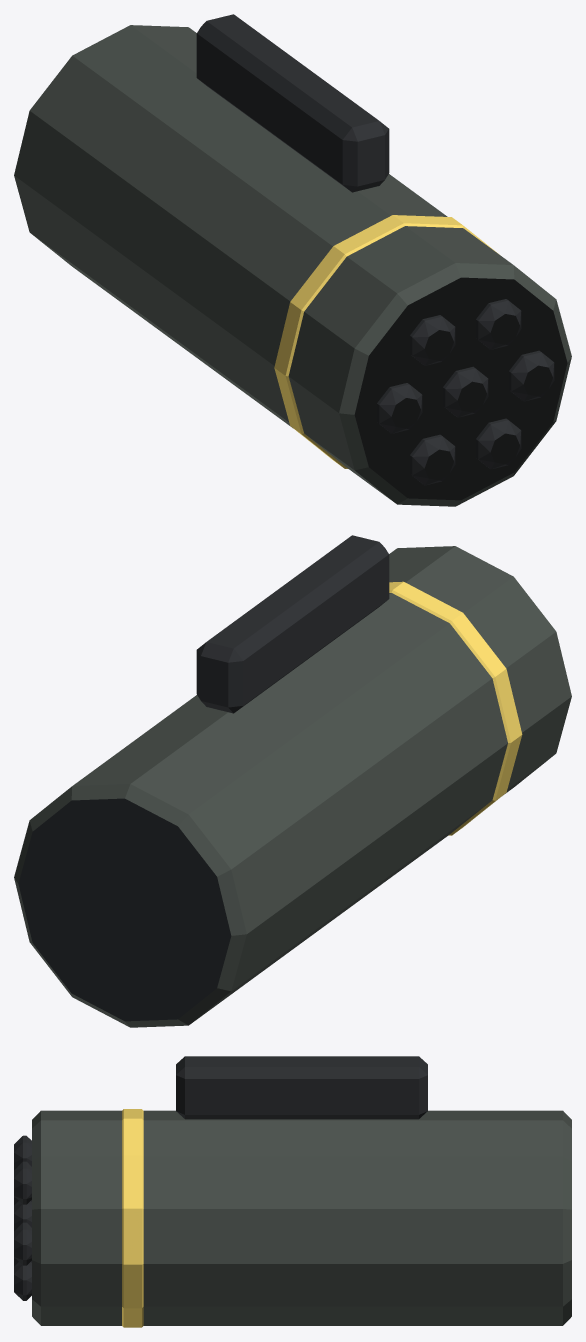
File: Pod_Rockets.fbx
The picture shows the model from 3 angles, top to bottom: view 1: azimuth 30°, elevation 25°; view 2: azimuth 150°, elevation 25°; view 3: azimuth 270°, elevation 25°; orthographic projection. The views are drawn at different scales.
Visible parts, largest first — view 1: Pod_Rockets; view 2: Pod_Rockets; view 3: Pod_Rockets.
Boxes of the visible parts, x1,y1,x2,y2 form: Pod_Rockets: (14,14,571,506); Pod_Rockets: (14,535,571,1027); Pod_Rockets: (14,1056,571,1327).
Bounding box in the file's own units: 0.61 × 0.785 × 1.55.
